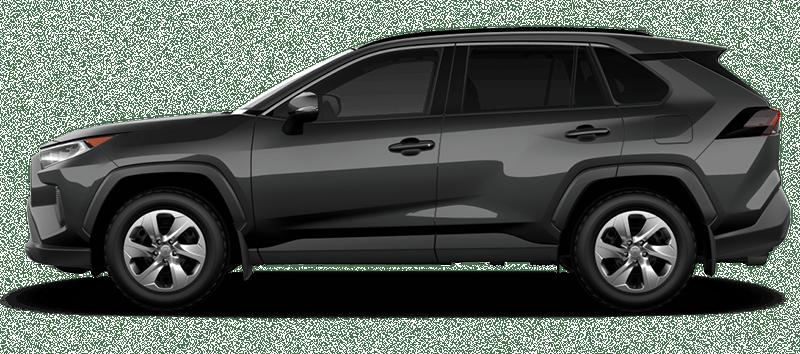Toyota RAV-4: (25, 25, 794, 314)
